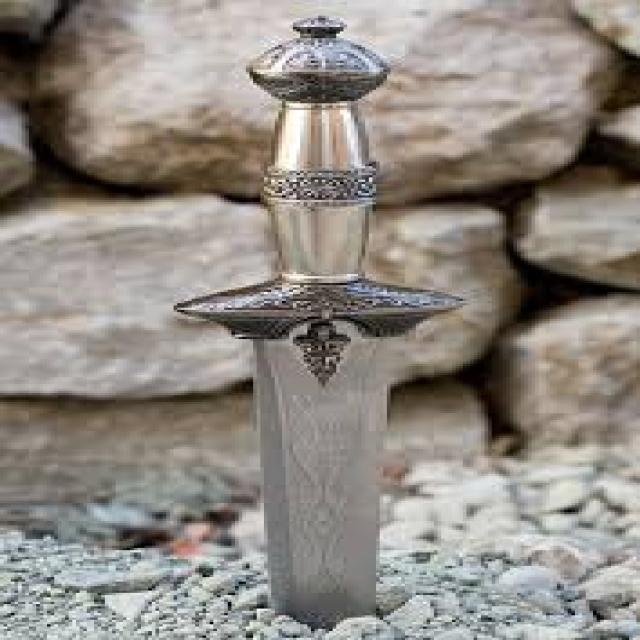Gun: (209, 11, 466, 624)
